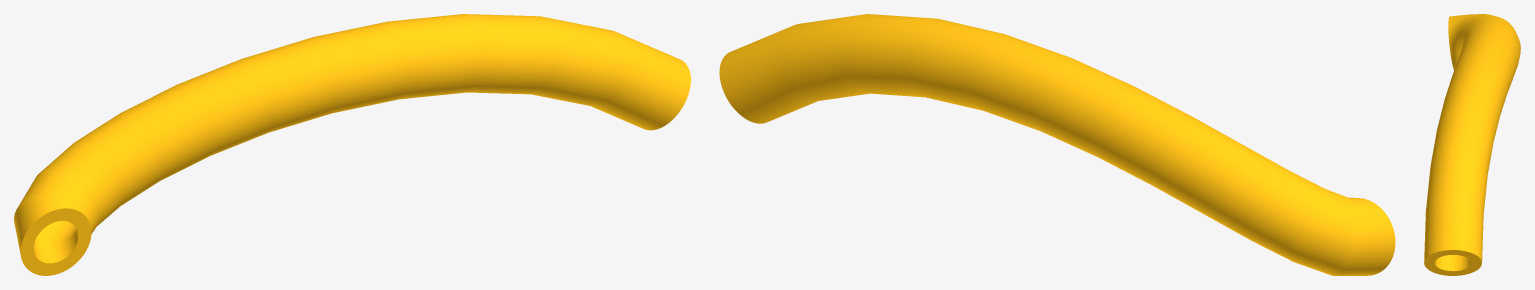
The picture shows the model from 3 angles, left to right: view 1: azimuth 30°, elevation 25°; view 2: azimuth 150°, elevation 25°; view 3: azimuth 270°, elevation 25°; orthographic projection. The views are drawn at different scales.
Visible parts, largest first — view 1: BezierCurve.001; view 2: BezierCurve.001; view 3: BezierCurve.001.
Boxes of the visible parts, x1,y1,x2,y2 form: BezierCurve.001: [14, 14, 690, 275]; BezierCurve.001: [719, 14, 1395, 275]; BezierCurve.001: [1424, 14, 1520, 275].
Size of the model in its own units: 1285 by 292 by 221.
